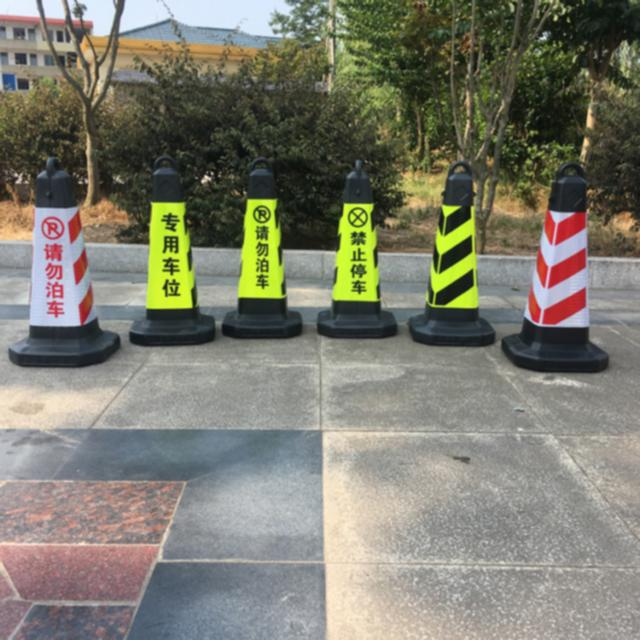reflective_cone: (498, 160, 611, 373), (9, 157, 120, 368), (128, 154, 216, 345), (407, 160, 496, 346), (220, 157, 302, 339), (315, 158, 397, 339)
